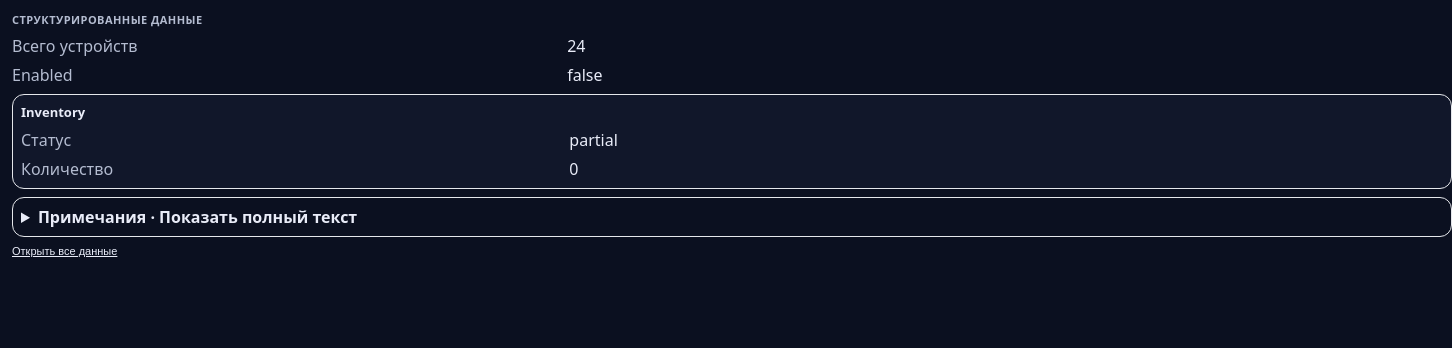
it: AgentResultViewer › puts short scalar values first, groups complex fields next, and collapses long text full width
This screenshot has width=1452, height=348.
Click the heading "Примечания · Показать полный текст" at (198, 217), box [38,206,357,228]
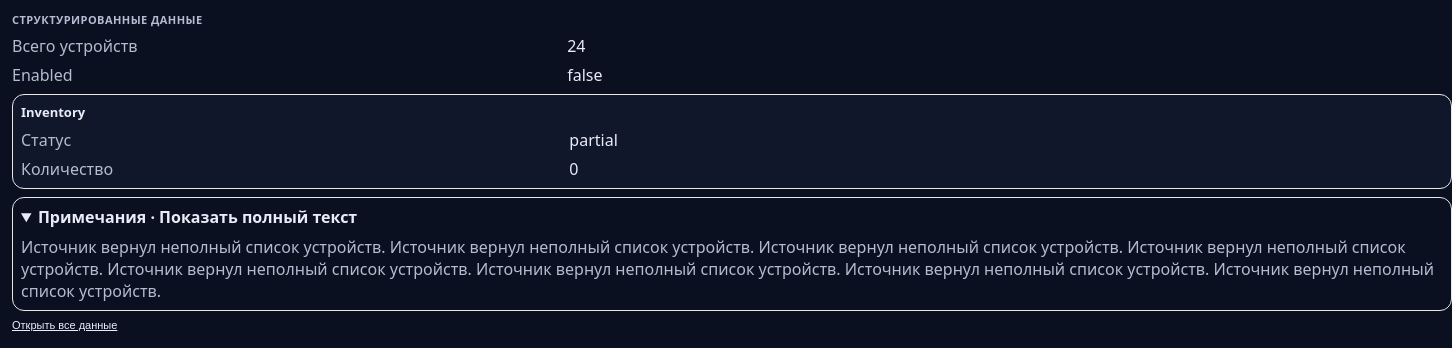
Result: the text "Примечания · Показать полный текст" has attribute open at [12,197,1451,311]
